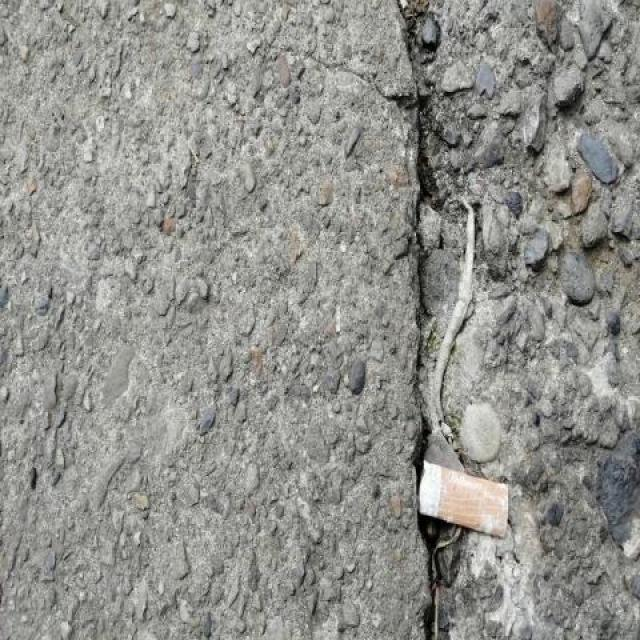non-organic waste: (416, 456, 512, 544)
